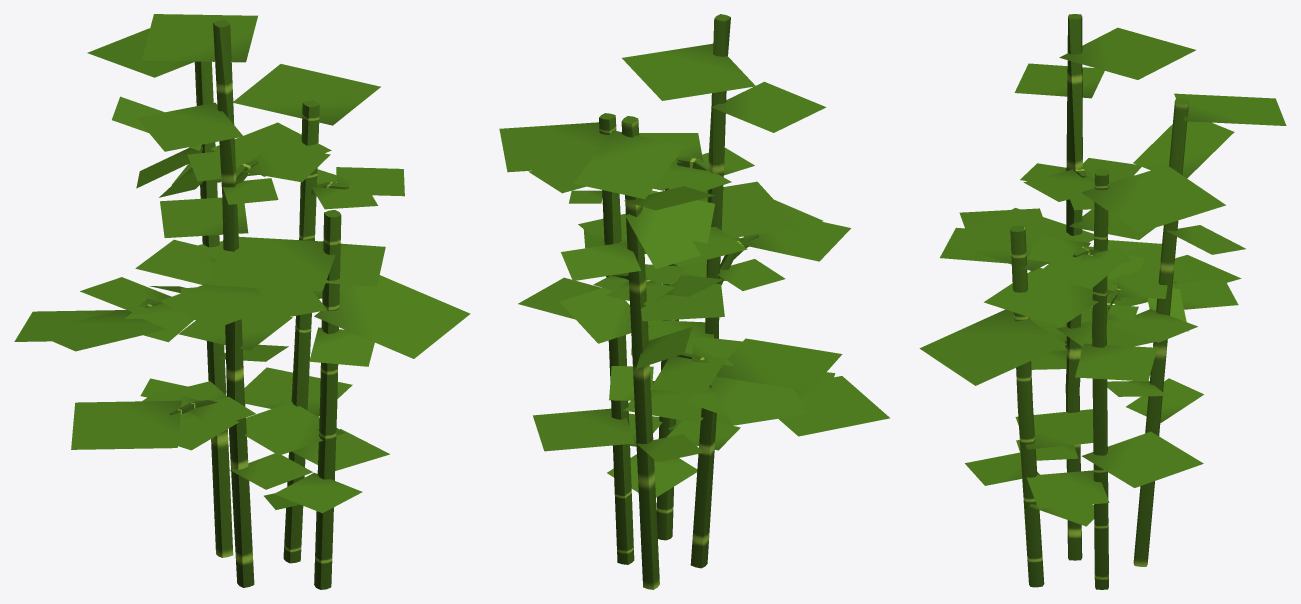
File: Bambooes.fbx
3 views of the same model, side by side, from view 1: azimuth 30°, elevation 25°; view 2: azimuth 150°, elevation 25°; view 3: azimuth 270°, elevation 25° (orthographic). The views are drawn at different scales.
Parts seen in each view (by area): view 1: Bamboo008, BambooLeaf055, BambooLeaf054, Bamboo007, BambooLeaf058, Bamboo006, BambooLeaf048, Bamboo005, BambooLeaf070, BambooLeaf071, BambooLeaf063, BambooLeaf051 (+26 smaller); view 2: Bamboo005, Bamboo008, BambooLeaf070, BambooLeaves017, Bamboo006, BambooLeaf048, BambooLeaves014, BambooLeaf058, BambooLeaf049, BambooLeaves013, BambooLeaf071, BambooLeaf054 (+29 smaller); view 3: BambooLeaf055, BambooLeaf048, Bamboo006, Bamboo008, Bamboo005, Bamboo007, BambooLeaf070, BambooLeaf049, BambooLeaf054, BambooLeaf046, BambooLeaves017, BambooLeaf047 (+27 smaller).
Boxes of the visible parts, x1,y1,x2,y2 form: Bamboo008: [170, 20, 258, 587]; BambooLeaf055: [314, 275, 470, 358]; BambooLeaf054: [207, 236, 335, 291]; Bamboo007: [314, 210, 341, 589]; BambooLeaf058: [71, 400, 181, 449]; Bamboo006: [283, 100, 348, 563]; BambooLeaf048: [233, 64, 380, 125]; Bamboo005: [127, 61, 233, 557]; BambooLeaf070: [142, 14, 257, 62]; BambooLeaf071: [136, 102, 243, 151]; BambooLeaf063: [160, 283, 281, 329]; BambooLeaf051: [245, 402, 344, 455]; Bamboo005: [621, 116, 724, 589]; Bamboo008: [677, 14, 758, 568]; BambooLeaf070: [622, 43, 755, 100]; BambooLeaves017: [573, 130, 684, 199]; Bamboo006: [599, 113, 655, 564]; BambooLeaf048: [499, 122, 608, 172]; BambooLeaves014: [716, 338, 842, 391]; BambooLeaf058: [778, 376, 889, 436]; BambooLeaf049: [533, 408, 634, 451]; BambooLeaves013: [710, 376, 807, 425]; BambooLeaf071: [711, 81, 826, 132]; BambooLeaf054: [698, 181, 798, 238]; BambooLeaf055: [919, 309, 1066, 385]; BambooLeaf048: [1081, 165, 1225, 232]; Bamboo006: [1073, 169, 1121, 589]; Bamboo008: [1064, 14, 1087, 560]; Bamboo005: [1133, 98, 1188, 566]; Bamboo007: [1010, 225, 1044, 587]; BambooLeaf070: [1059, 27, 1195, 79]; BambooLeaf049: [1082, 431, 1203, 487]; BambooLeaf054: [947, 208, 1093, 271]; BambooLeaf046: [984, 267, 1113, 327]; BambooLeaves017: [1174, 93, 1286, 125]; BambooLeaf047: [1075, 343, 1157, 381].
Size of the model in its own units: 64.13 by 97.44 by 60.97.
Materials: 5 (5 with a texture image).
